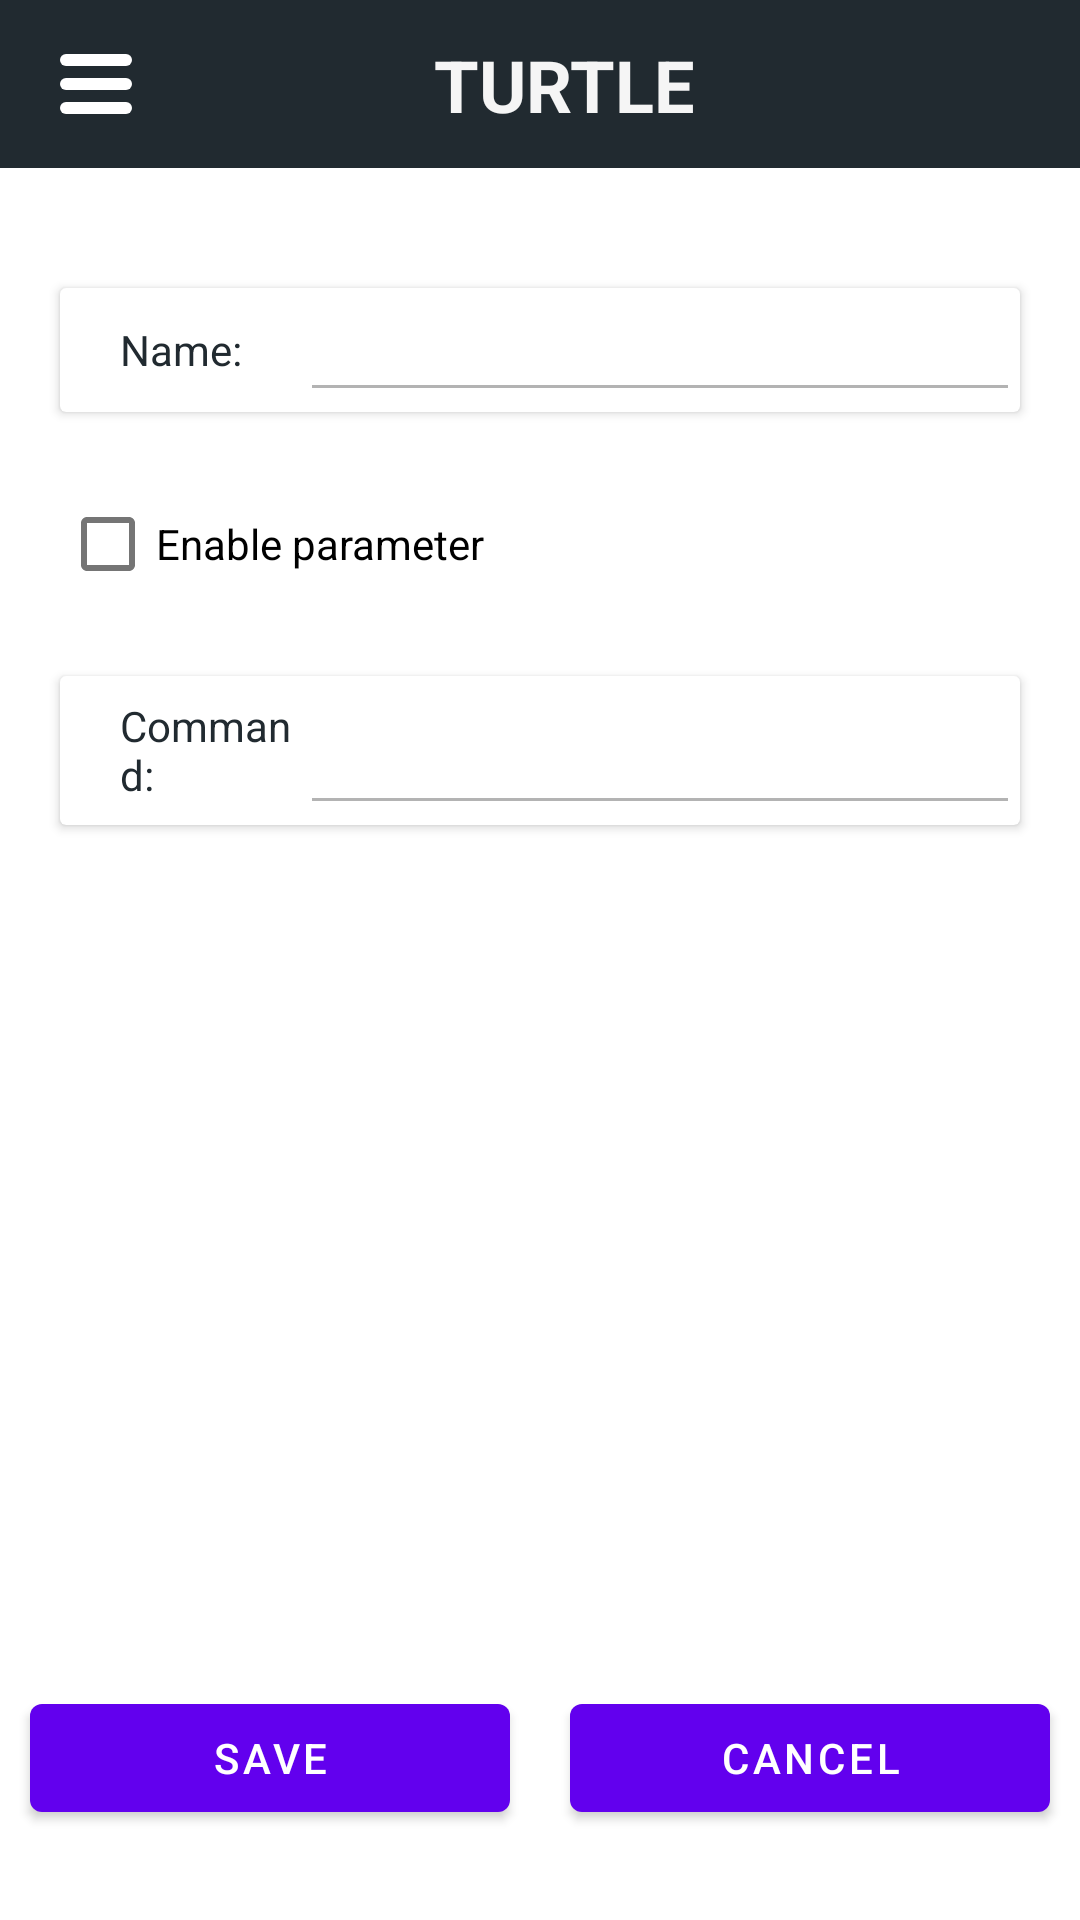

Icons on this 1080w x 1920h Android screen, each with the point to tap as [x,y]:
Menu button: [96,84]
